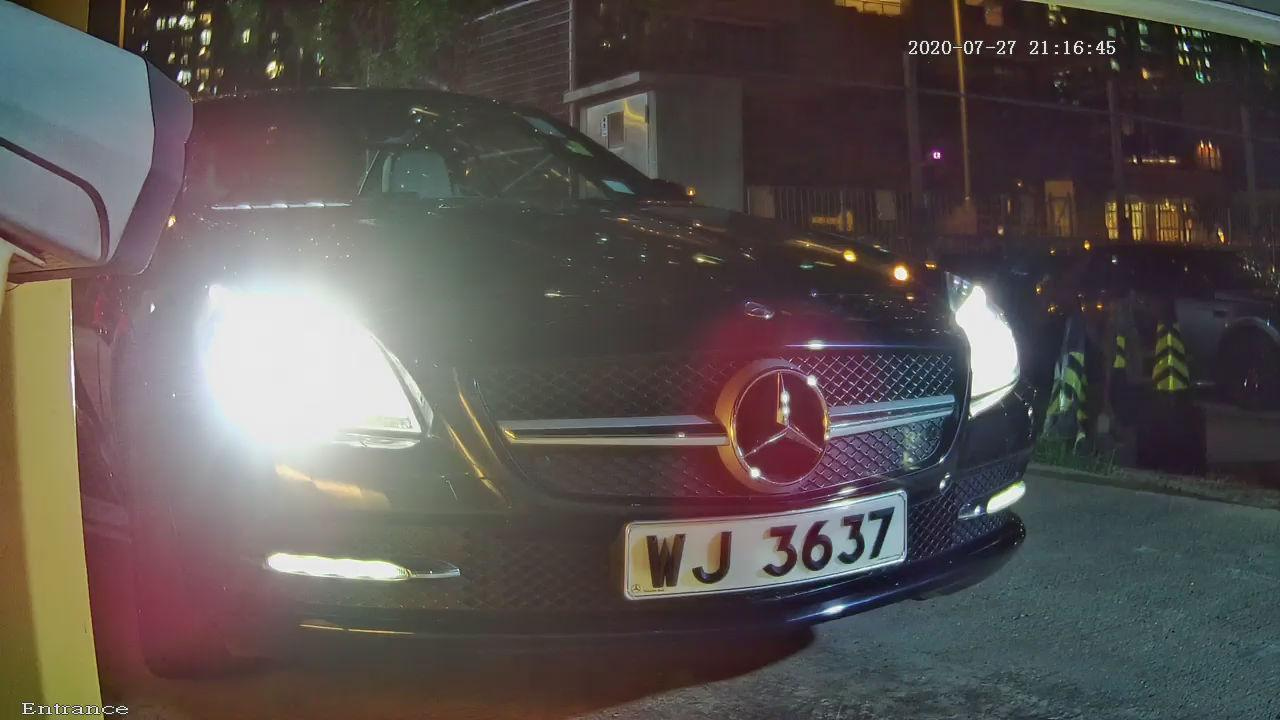privatecar: (120, 26, 1075, 669)
